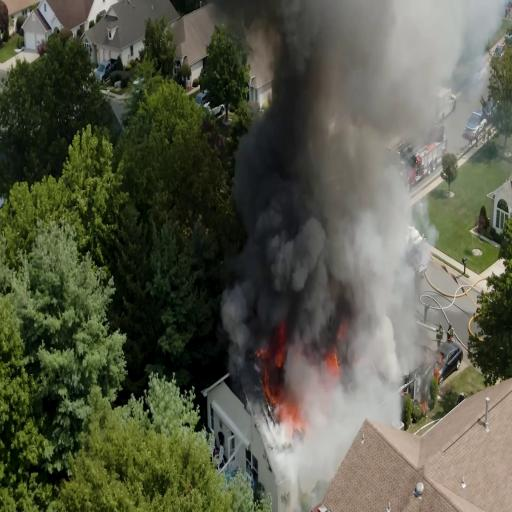smoke: (244, 110, 348, 337), (330, 120, 408, 332), (279, 0, 428, 102)
